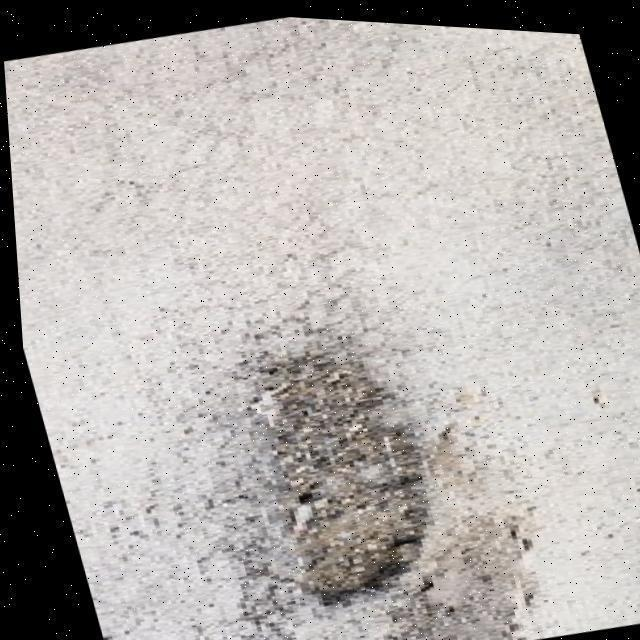Pothole: (223, 344, 433, 609)
